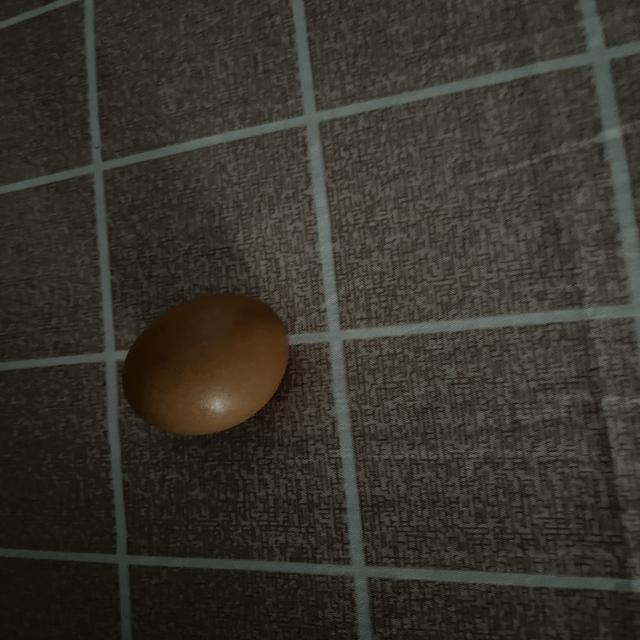Egg: (111, 286, 305, 441)
